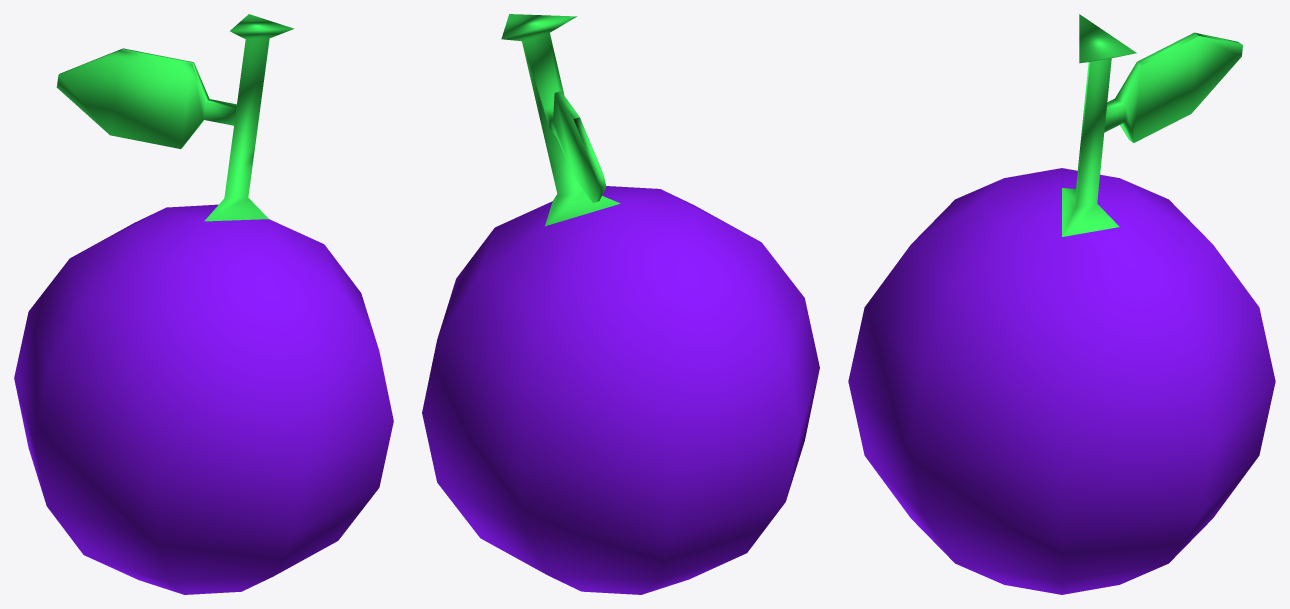
File: grape1.fbx
3 renders of one model, left to right at view 1: azimuth 30°, elevation 25°; view 2: azimuth 150°, elevation 25°; view 3: azimuth 270°, elevation 25°, orthographic. The views are drawn at different scales.
Visible parts, largest first — view 1: Sphere; view 2: Sphere; view 3: Sphere.
Boxes of the visible parts, box(x1,y1,x2,y2) form: Sphere: box(14, 14, 393, 594); Sphere: box(422, 14, 819, 594); Sphere: box(848, 14, 1275, 594).
Size of the model in its own units: 2 by 2.99 by 2.
1 material, 1 textured.
